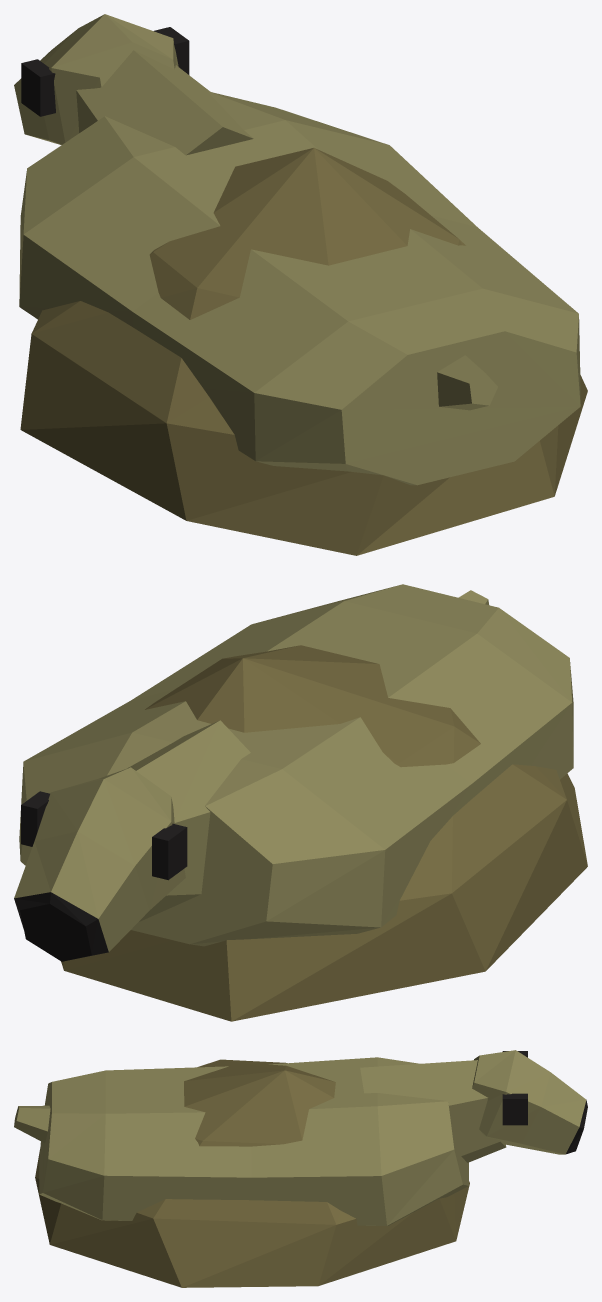
Rendered from animal_tortoise.obj.
The picture shows the model from 3 angles, top to bottom: view 1: azimuth 30°, elevation 25°; view 2: azimuth 150°, elevation 25°; view 3: azimuth 270°, elevation 25°; orthographic projection. The views are drawn at different scales.
Parts seen in each view (by area): view 1: animal_tortoise; view 2: animal_tortoise; view 3: animal_tortoise.
Boxes of the visible parts, x1,y1,x2,y2 form: animal_tortoise: (14,14,587,555); animal_tortoise: (14,584,587,1021); animal_tortoise: (14,1050,587,1287).
Bounding box in the file's own units: 0.451 × 0.2555 × 0.7295.
